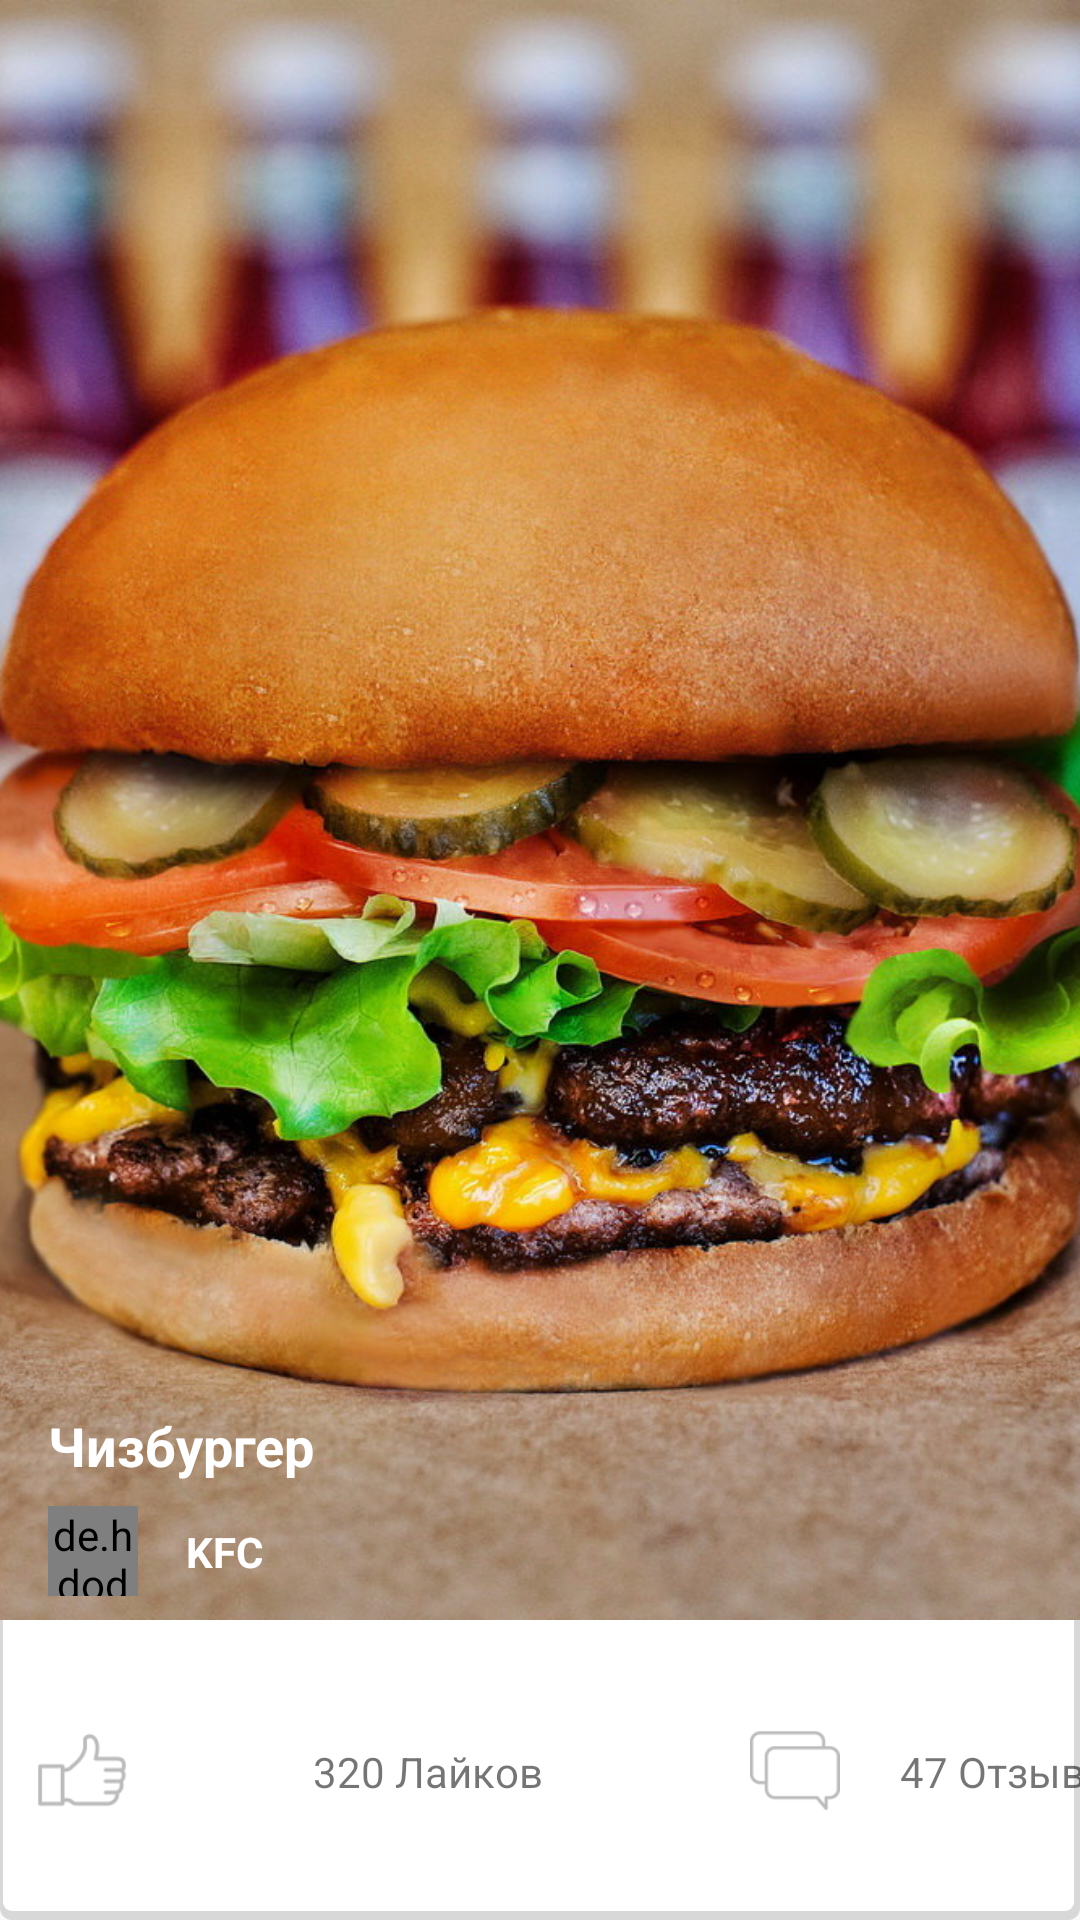

Where to tap for icons on this 1080×1920 app screen, as [x,y]:
comment: [795,1770]
like: [82,1770]
